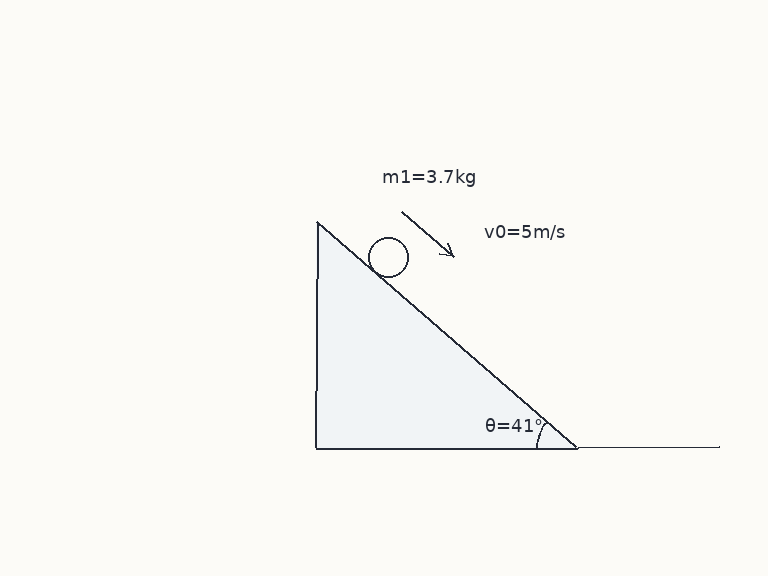ball: (366, 235, 410, 279)
ramp: (315, 220, 579, 450)
